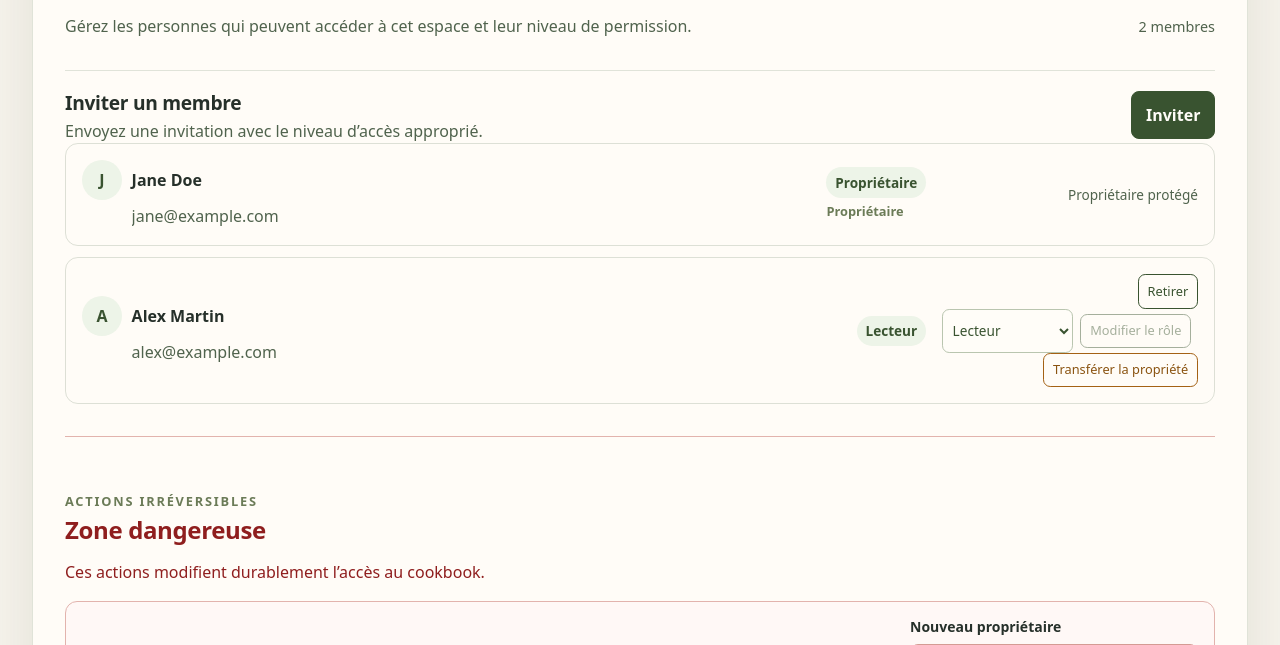
CookbookView › lets an owner request and confirm a member role change, then refreshes the list
This screenshot has width=1280, height=645.
(page scrolled)
Select "Éditeur" in the dropdown with id "member-role-8" at (1008,331), box top-left (942, 309), bottom-right (1073, 353)
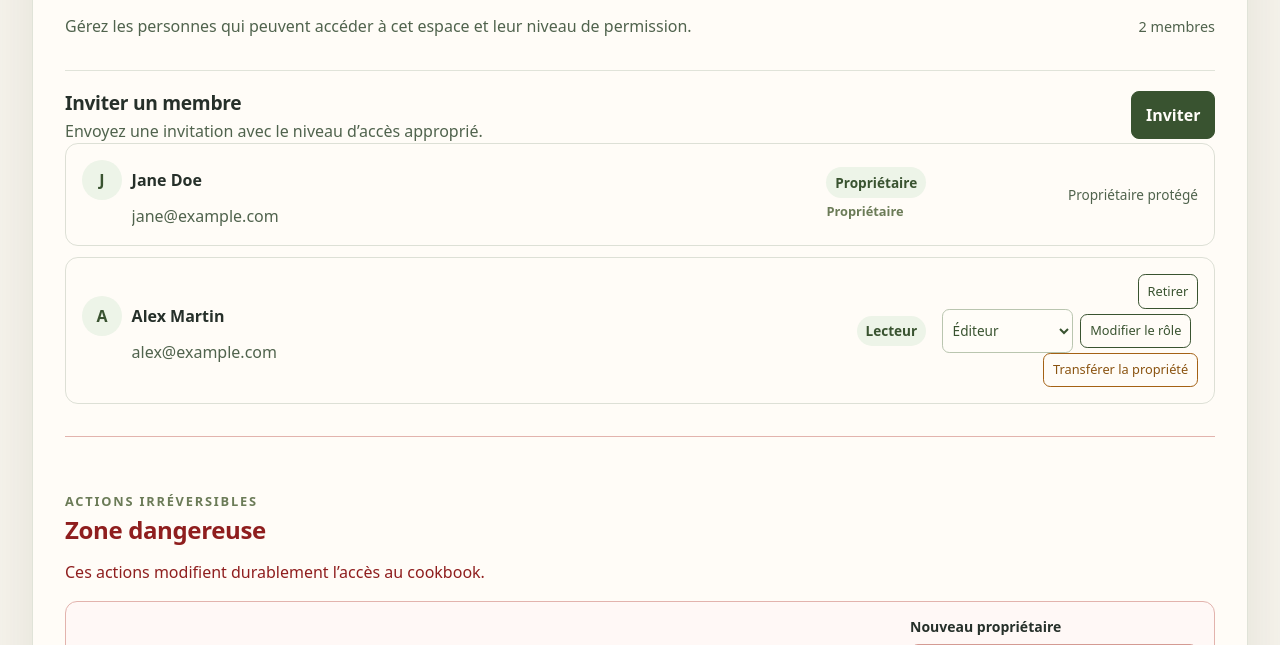
Select "Éditeur" in the dropdown with id "member-role-8" at (1008,331), box top-left (942, 309), bottom-right (1073, 353)
Submit the form with class "member-role-form", box top-left (942, 309), bottom-right (1198, 353)
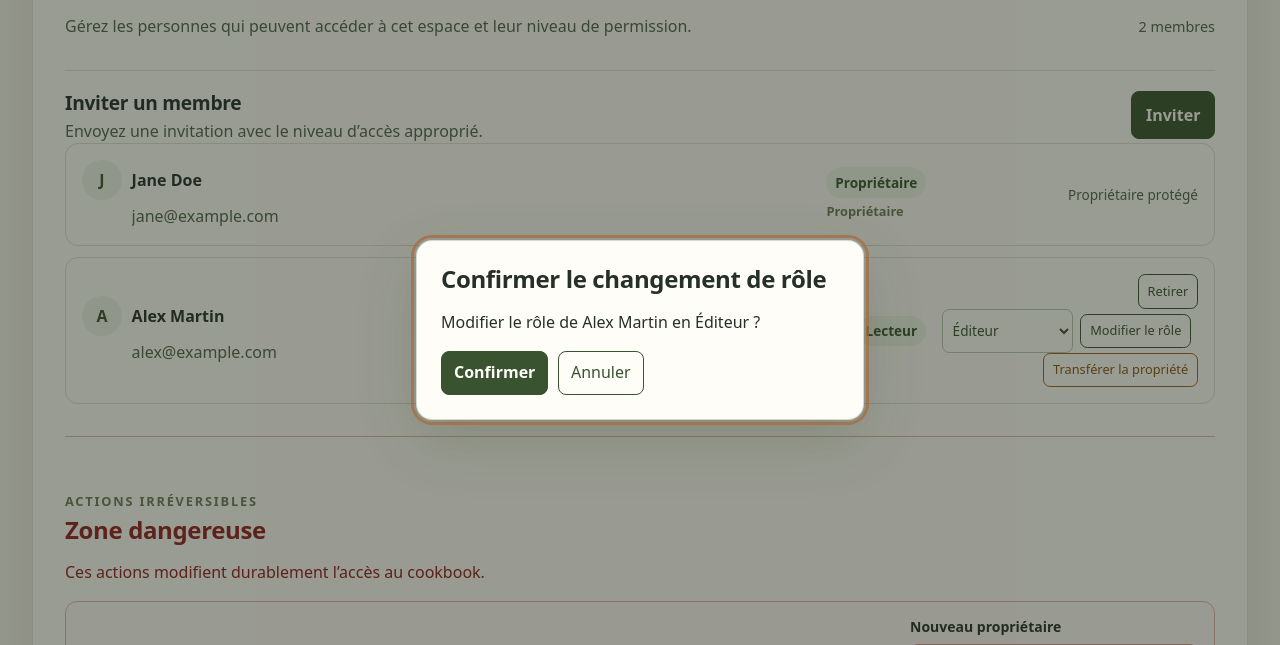
Now the dialog shows "Alex Martin", box top-left (441, 311), bottom-right (760, 333)
Now the dialog shows "Éditeur", box top-left (441, 311), bottom-right (760, 333)
Click the button with class "edit-button" at (495,373), box top-left (441, 351), bottom-right (548, 395)
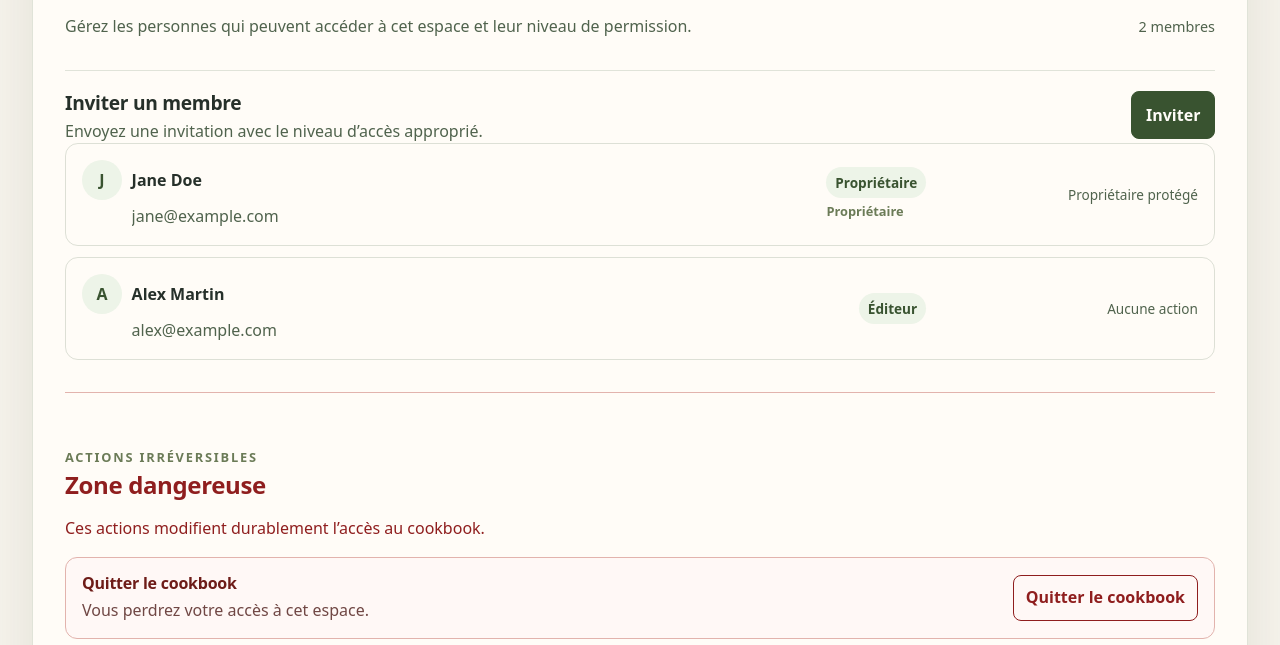
Now the element with class "member-item" shows "Éditeur", box top-left (868, 299), bottom-right (917, 318)
Now no dialogs are shown
